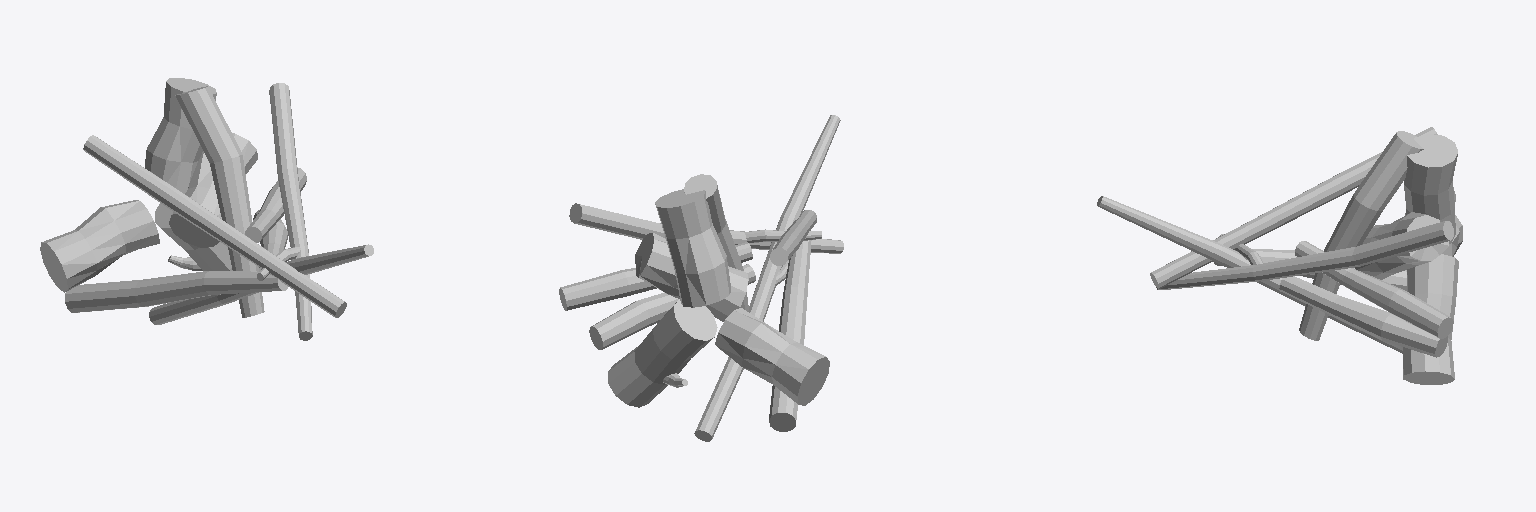
File: campfire_bark.obj
The picture shows the model from 3 angles: view 1: azimuth 30°, elevation 25°; view 2: azimuth 150°, elevation 25°; view 3: azimuth 270°, elevation 25°; orthographic projection.
Visible parts, largest first — view 1: campfire.001; view 2: campfire.001; view 3: campfire.001.
Part boxes in pixels (left/top/right/bottom): campfire.001: left=40, top=78, right=373, bottom=340; campfire.001: left=559, top=115, right=843, bottom=441; campfire.001: left=1097, top=127, right=1462, bottom=384.
Size of the model in its own units: 0.2223 by 0.2015 by 0.2715.